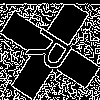R: (25, 25, 82, 80)
